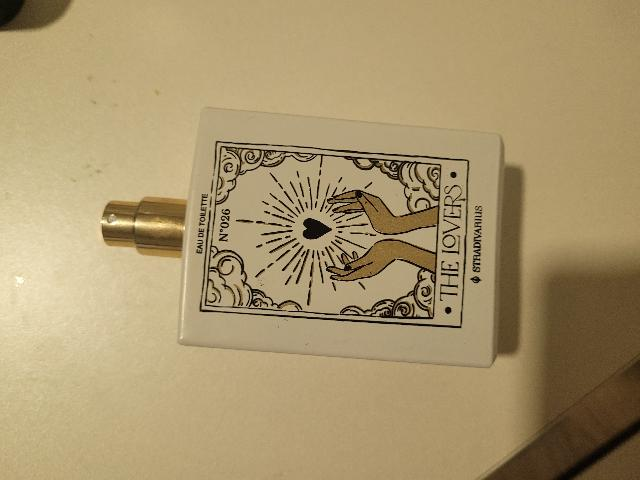Cam: (176, 107, 516, 379)
Metal: (98, 189, 191, 273)
